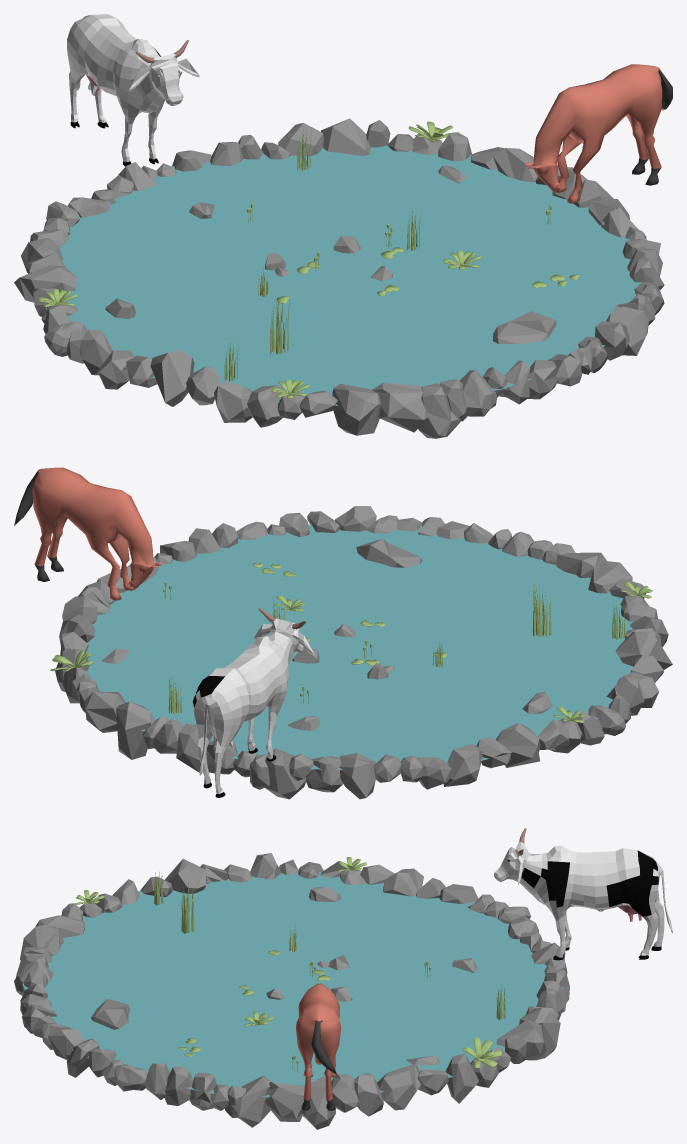
The model's file is pond.fbx.
3 renders of one model, top to bottom at view 1: azimuth 30°, elevation 25°; view 2: azimuth 150°, elevation 25°; view 3: azimuth 270°, elevation 25°, orthographic. The views are drawn at different scales.
Visible parts, largest first — view 1: pond_2.001, Body1.001, polySurface10.001; view 2: pond_2.001, Body1.001, polySurface10.001; view 3: pond_2.001, polySurface10.001, Body1.001.
Boxes of the visible parts, x1=… form: pond_2.001: x1=14, y1=118, x2=664, y2=438; Body1.001: x1=524, y1=64, x2=672, y2=203; polySurface10.001: x1=67, y1=14, x2=199, y2=166; pond_2.001: x1=50, y1=506, x2=672, y2=799; Body1.001: x1=14, y1=467, x2=162, y2=600; polySurface10.001: x1=193, y1=608, x2=315, y2=797; pond_2.001: x1=14, y1=853, x2=569, y2=1129; polySurface10.001: x1=494, y1=828, x2=672, y2=960; Body1.001: x1=296, y1=983, x2=341, y2=1110.
Size of the model in its own units: 4721 by 1314 by 4937.
